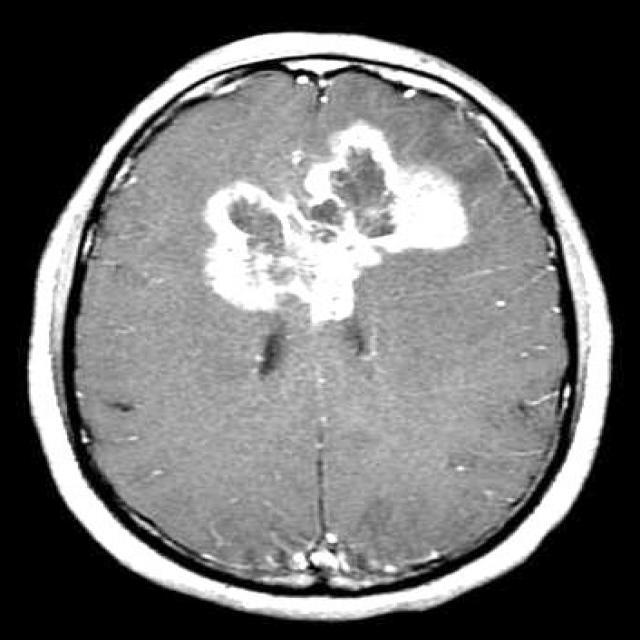tumor: (205, 83, 468, 327)
